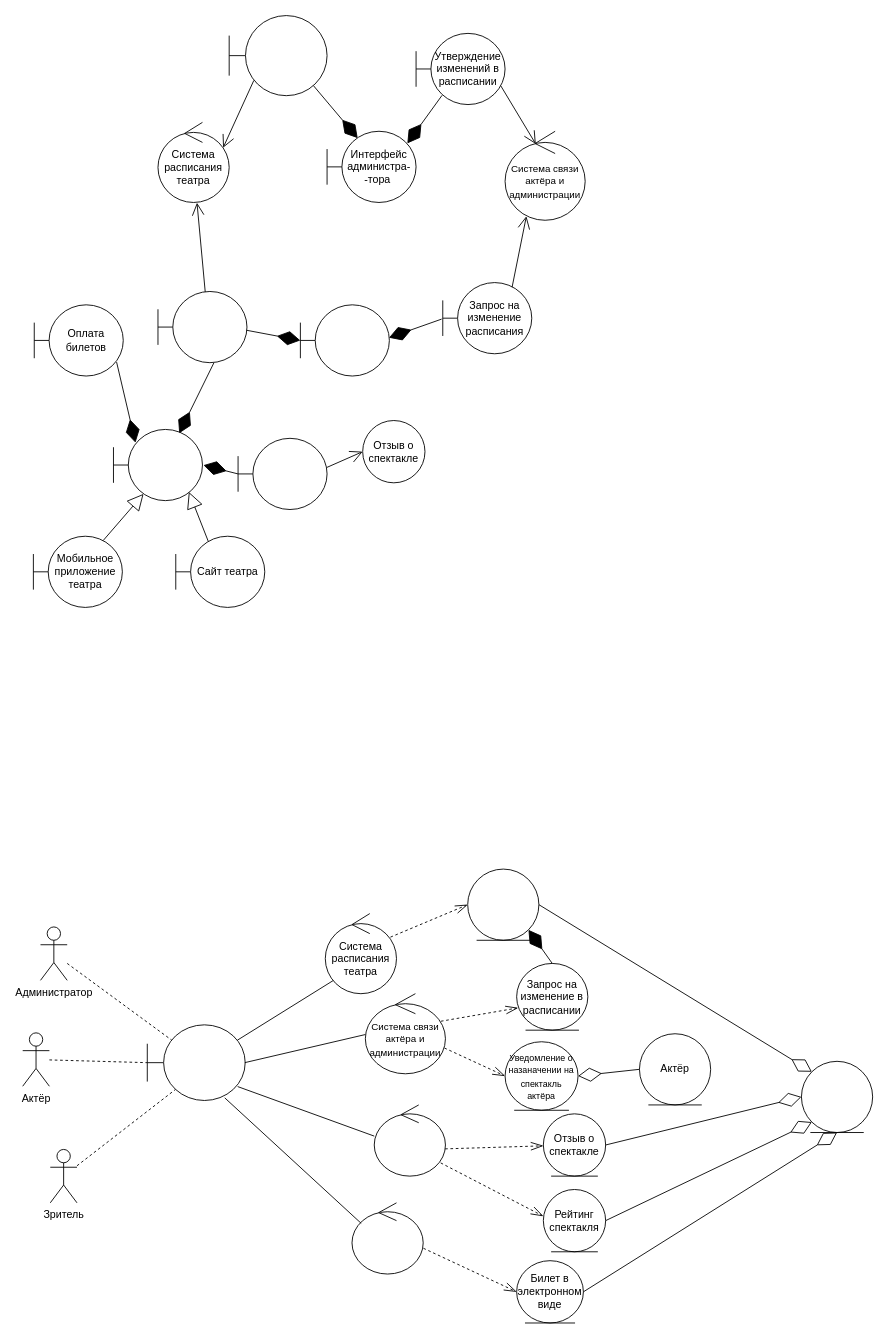
Image size: 888x1339. Some labels were removed from this diagram. Each missing label, with the centre of its shape:
"Интерфейс актёра" goes at (344,340).
"Интерфейс зрителя" goes at (157,465).
"Интерфейс организации составления расписания" goes at (195,1062).
"Обратная связь по спектаклю" goes at (282,473).
"Расписание спектаклей" goes at (503,904).
"Расписание театра" goes at (202,327).
"Система бронирования билетов" goes at (387,1238).
"Система обратной связи по спектаклю" goes at (409,1140).
"Создание и утверждение расписания театра" goes at (277,55).
"Спектакль" goes at (837,1096).
